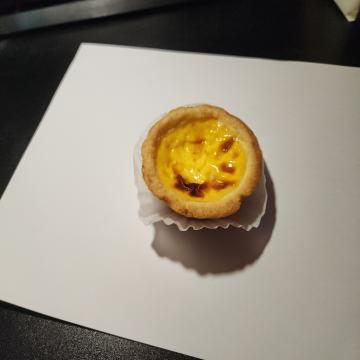EggTart: (140, 103, 263, 217)
